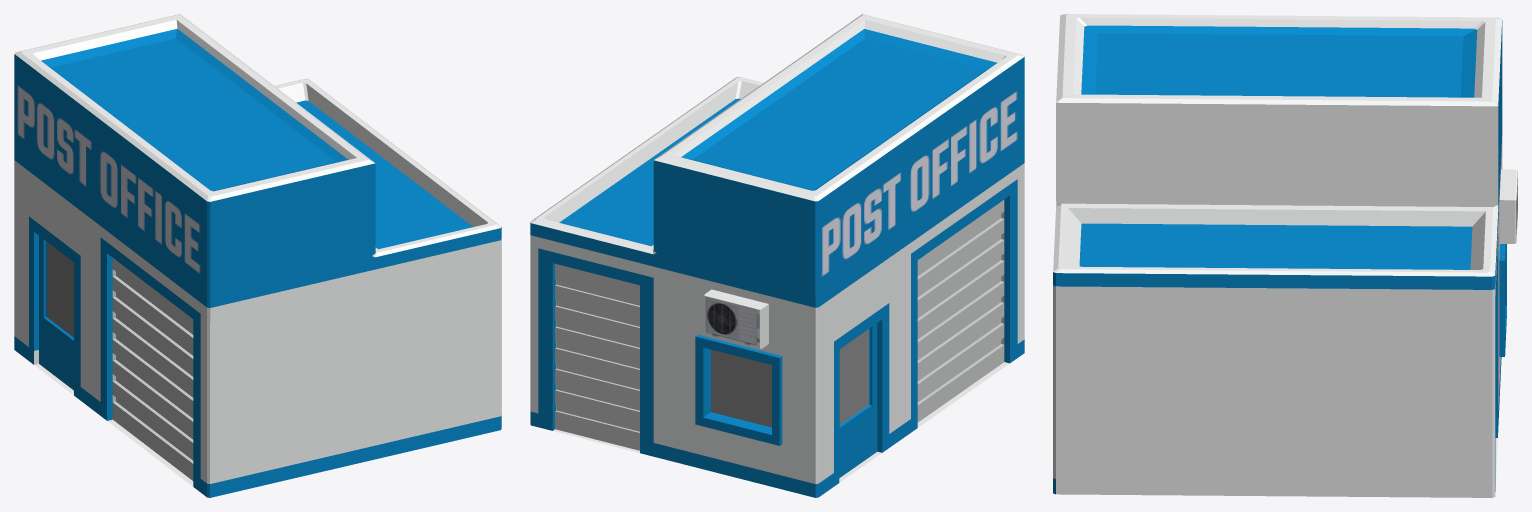
Rendered from post-office.glb.
3 renders of one model, left to right at view 1: azimuth 30°, elevation 25°; view 2: azimuth 150°, elevation 25°; view 3: azimuth 270°, elevation 25°, orthographic. The views are drawn at different scales.
Visible parts, largest first — view 1: Object_8, Object_9, Object_11, Object_10; view 2: Object_8, Object_9, Object_11, Object_10; view 3: Object_9, Object_8.
Boxes of the visible parts, x1,y1,x2,y2 form: Object_8: (14,29,501,497); Object_9: (14,14,501,486); Object_11: (112,258,193,480); Object_10: (47,242,73,337); Object_8: (530,29,1024,497); Object_9: (530,14,1024,483); Object_11: (555,200,1004,450); Object_10: (711,329,868,427); Object_9: (1053,14,1517,497); Object_8: (1053,20,1506,494).
Bounding box in the file's own units: 5.11 × 4.9 × 6.31.
4 materials, 2 textured.
